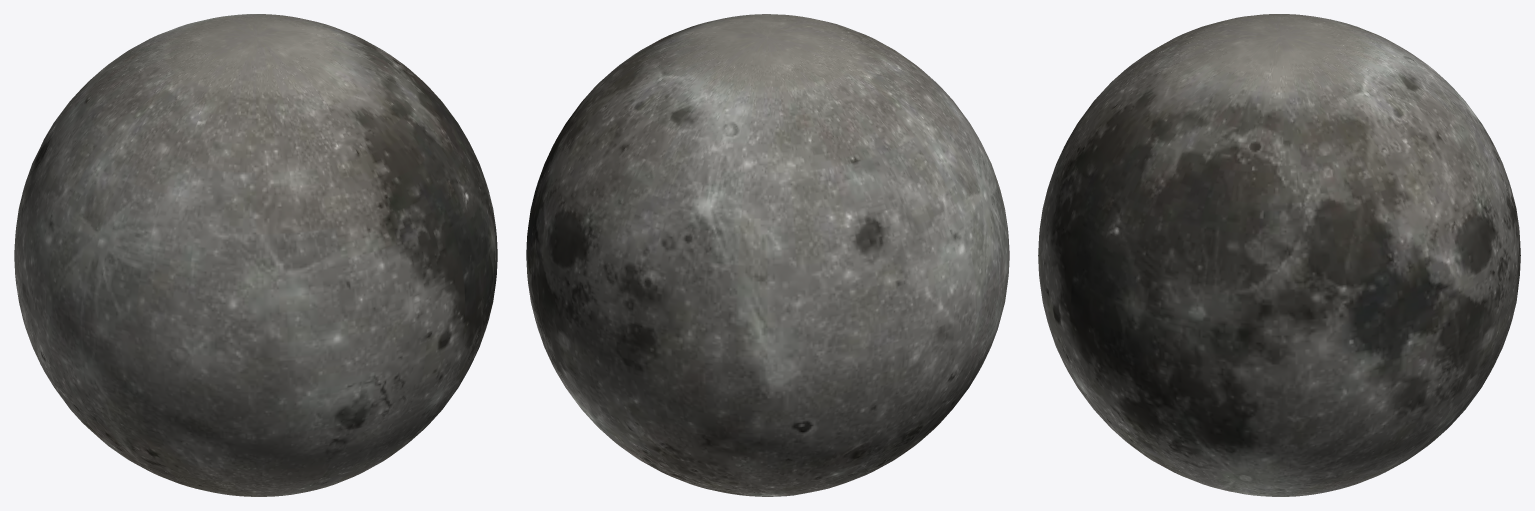
Rendered from luna_lod.glb.
The picture shows the model from 3 angles, left to right: view 1: azimuth 30°, elevation 25°; view 2: azimuth 150°, elevation 25°; view 3: azimuth 270°, elevation 25°; orthographic projection.
Parts seen in each view (by area): view 1: Moon; view 2: Moon; view 3: Moon.
Boxes of the visible parts, x1,y1,x2,y2 form: Moon: (14,14,497,496); Moon: (526,14,1009,496); Moon: (1038,14,1520,496).
Size of the model in its own units: 2.01 by 2.01 by 2.01.
1 material, 1 textured.
